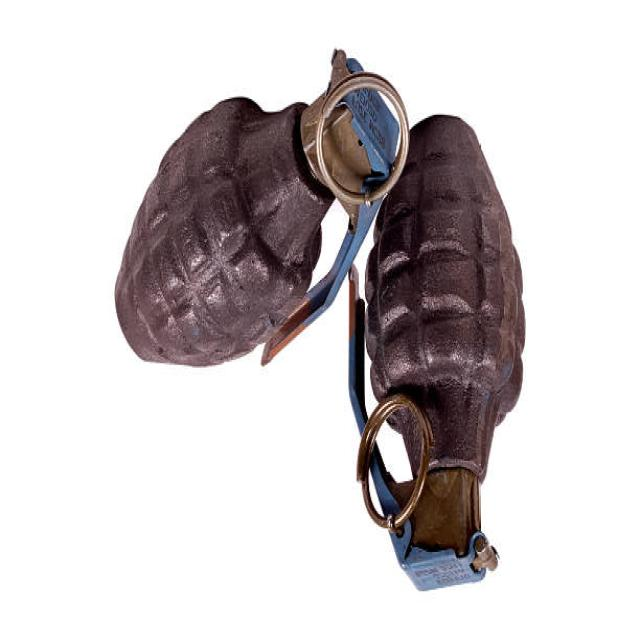grenade: (116, 50, 415, 375), (343, 112, 528, 603)
